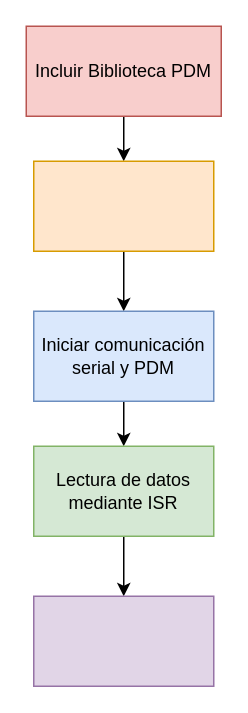
Some shapes in this 248 by 713 pixel diagram are drawn without their labels. Here are the shapes that lost their labels. From the top down, the centre of each, then its label:
At point 123,205: "Crear variables y buffers".
At point 123,640: "Enviar datos por USB".
